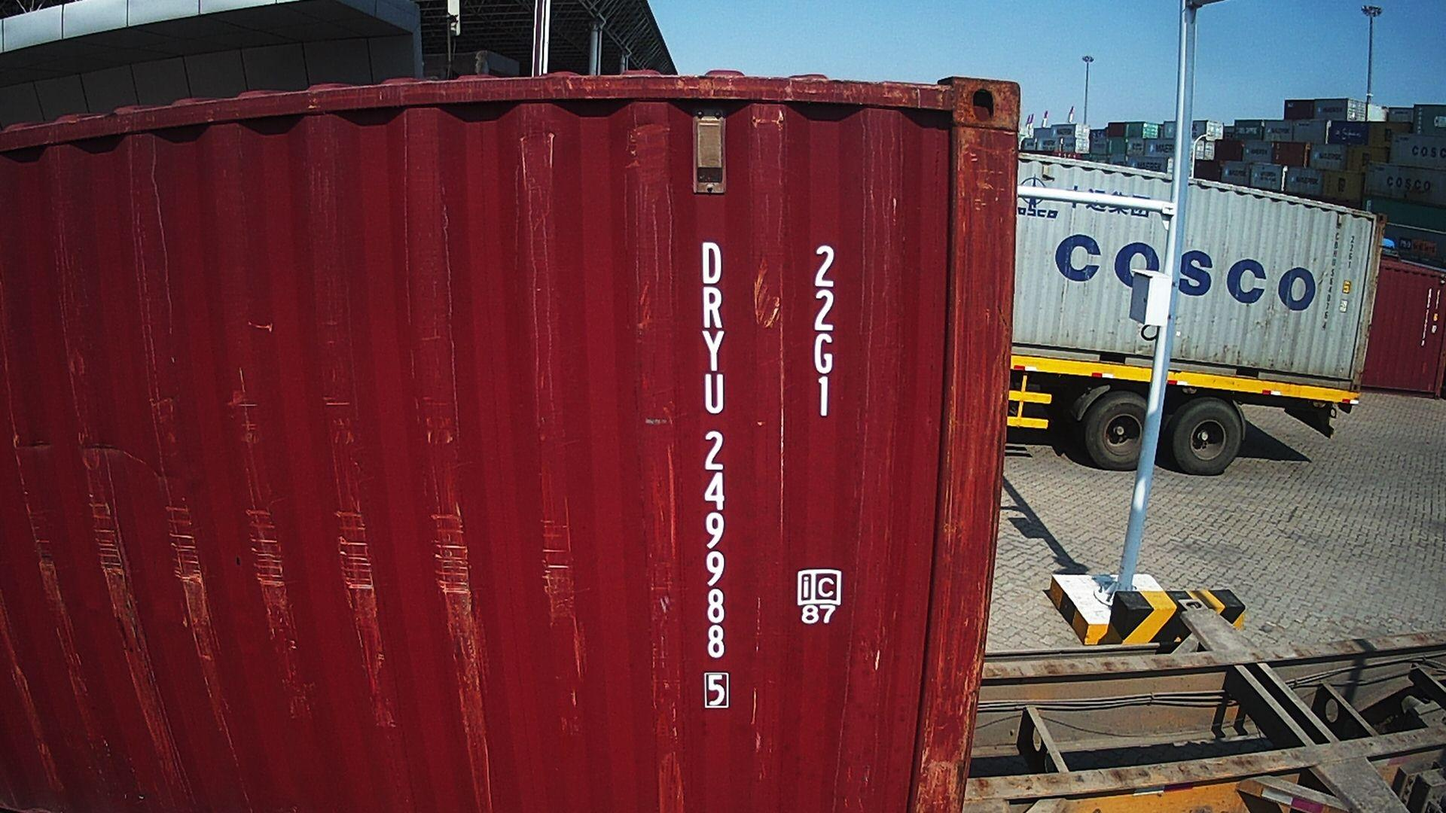container-numbers: (691, 235, 733, 717), (806, 240, 843, 422)
